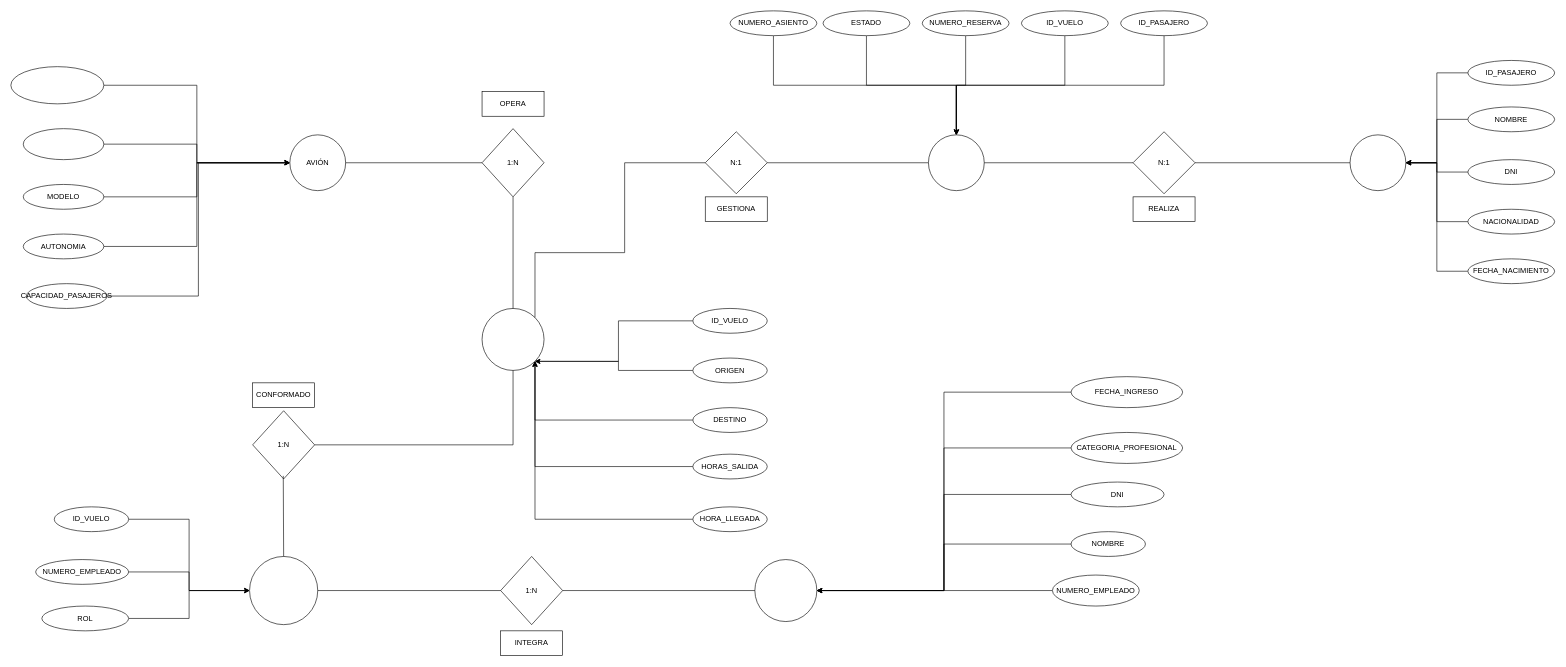
This 1566x667 diagram has some shape labels left out. Each missing label, with the centre of its shape:
ASIGNACIÓN: [283,590]
AÑO_FABRICACIÓN: [63,144]
EMPLEADO: [785,590]
NUMERO_MATRICULA: [57,85]
PASAJERO: [1377,162]
RESERVA: [956,162]
VUELO: [512,339]
